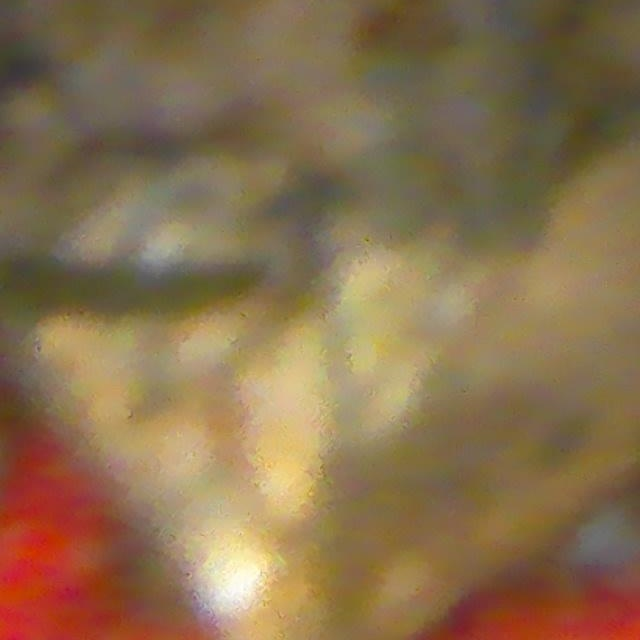SeaGrape: (573, 499, 640, 578)
